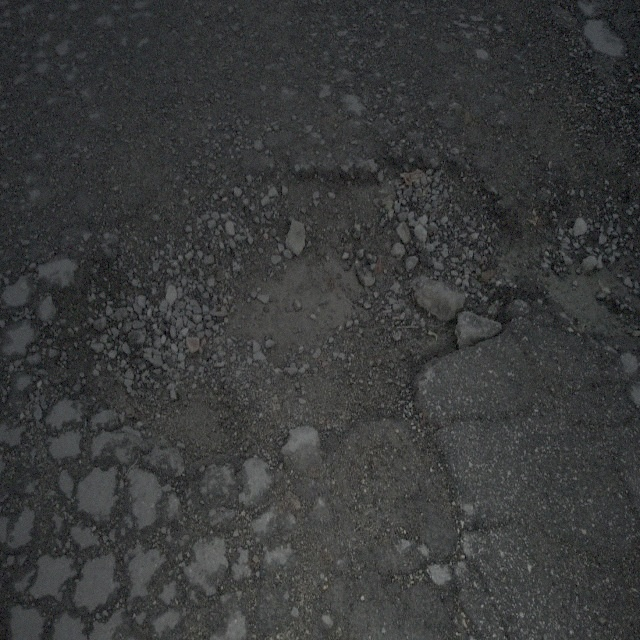pothole: (248, 150, 526, 434)
